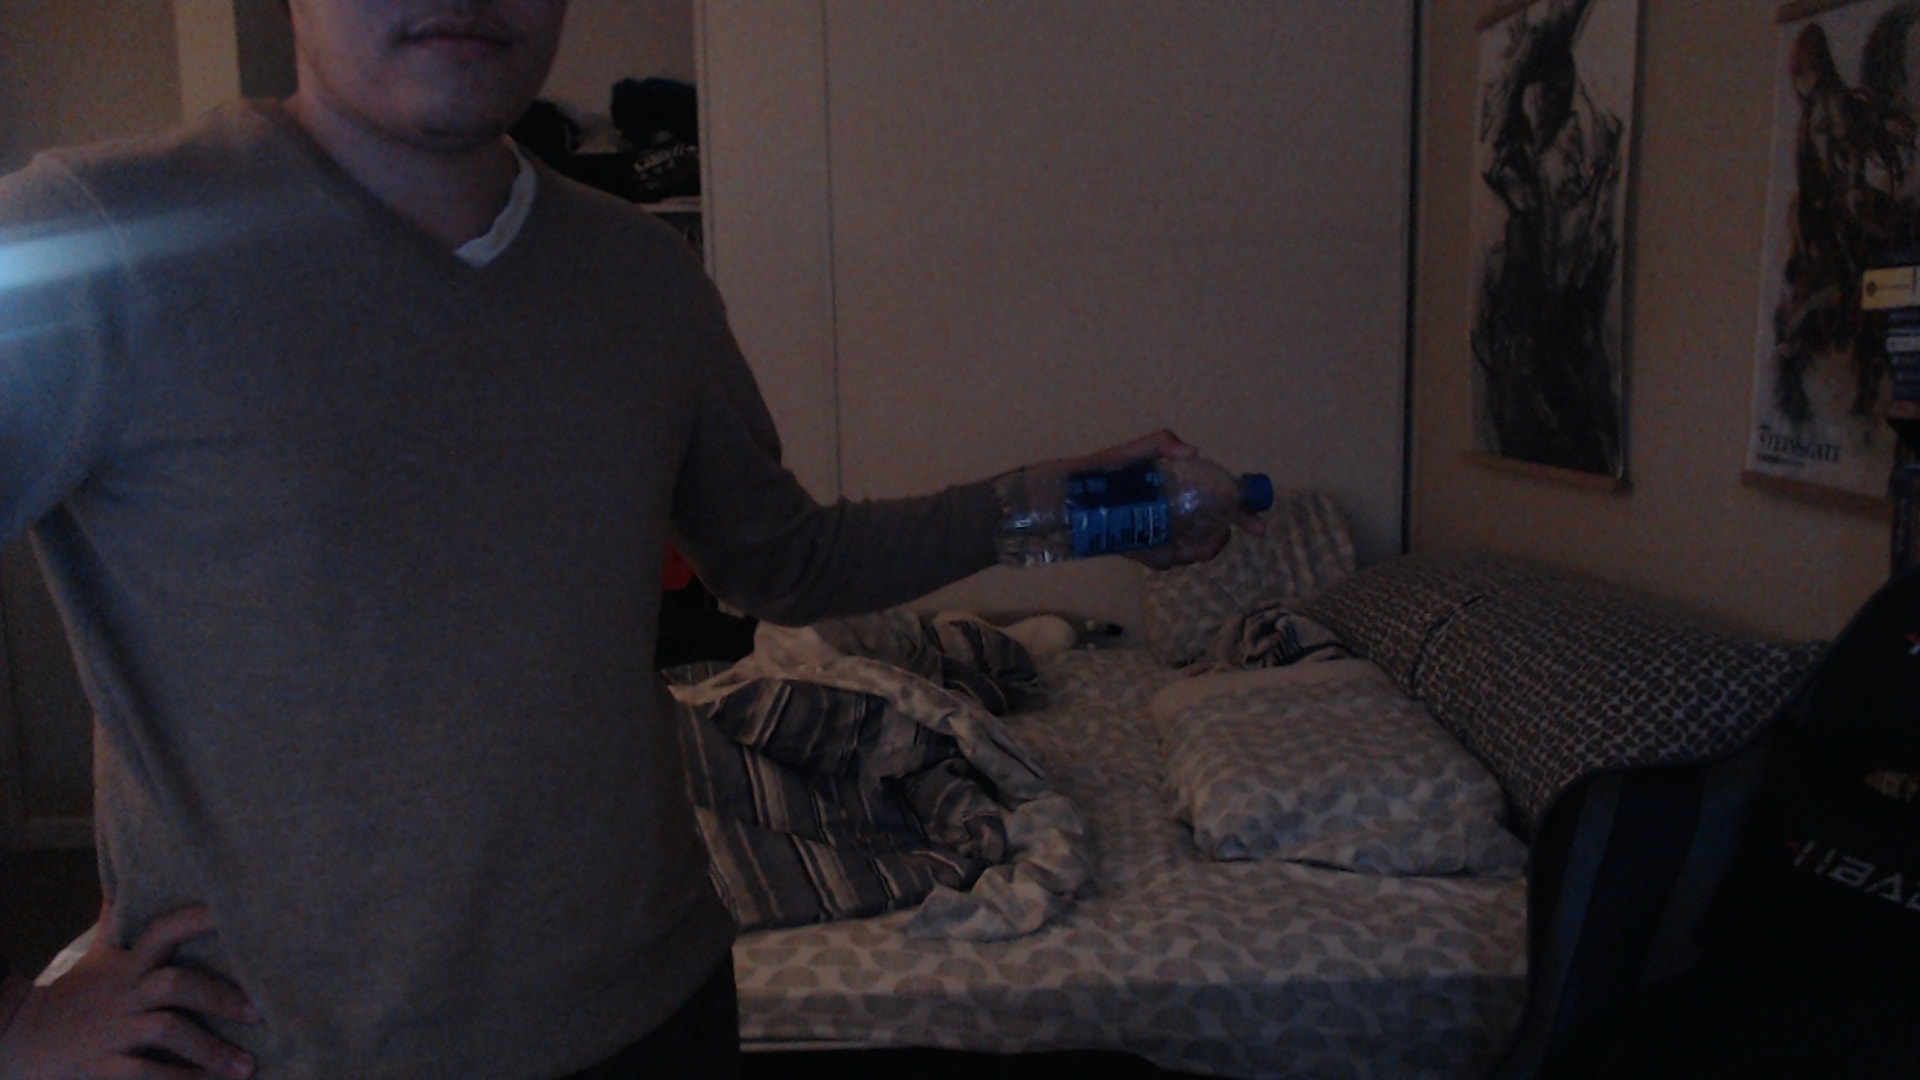bottle: (985, 462, 1278, 566)
